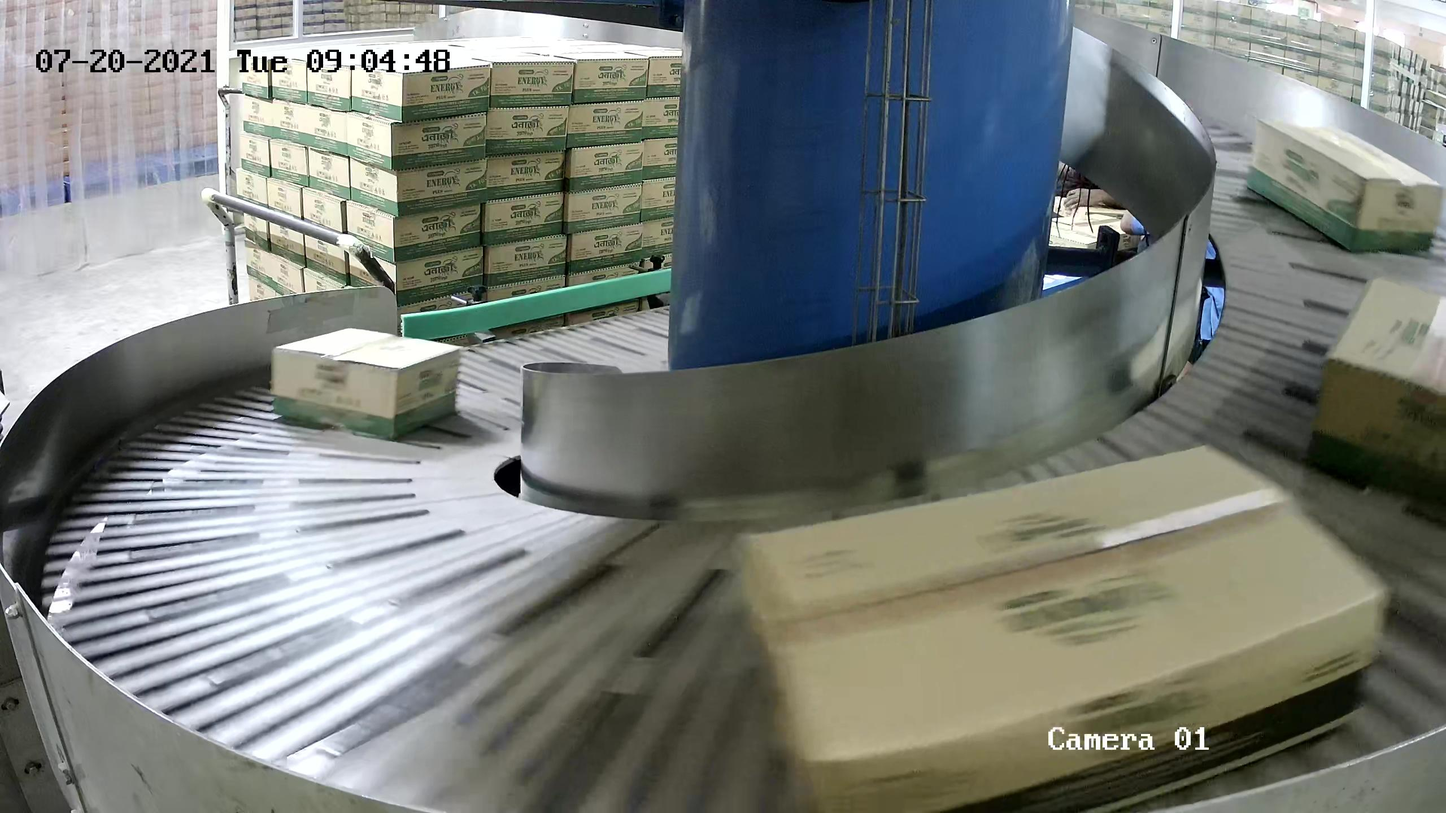Box: (738, 442, 1385, 813), (1306, 274, 1446, 518), (1247, 116, 1446, 253), (270, 326, 462, 442)
